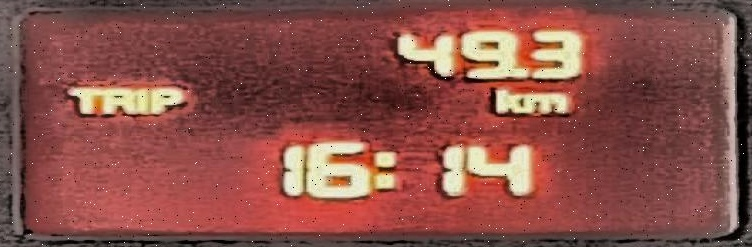-: (507, 65, 526, 79)
1: (438, 143, 466, 197), (277, 143, 304, 196)
3: (529, 29, 581, 80)
4: (464, 144, 538, 197), (393, 31, 457, 77)
6: (304, 139, 372, 198)
9: (458, 29, 516, 79)
X: (149, 85, 186, 116), (62, 85, 101, 114), (371, 150, 398, 190), (523, 91, 569, 114), (100, 85, 134, 115), (490, 87, 523, 113), (132, 85, 148, 115)
